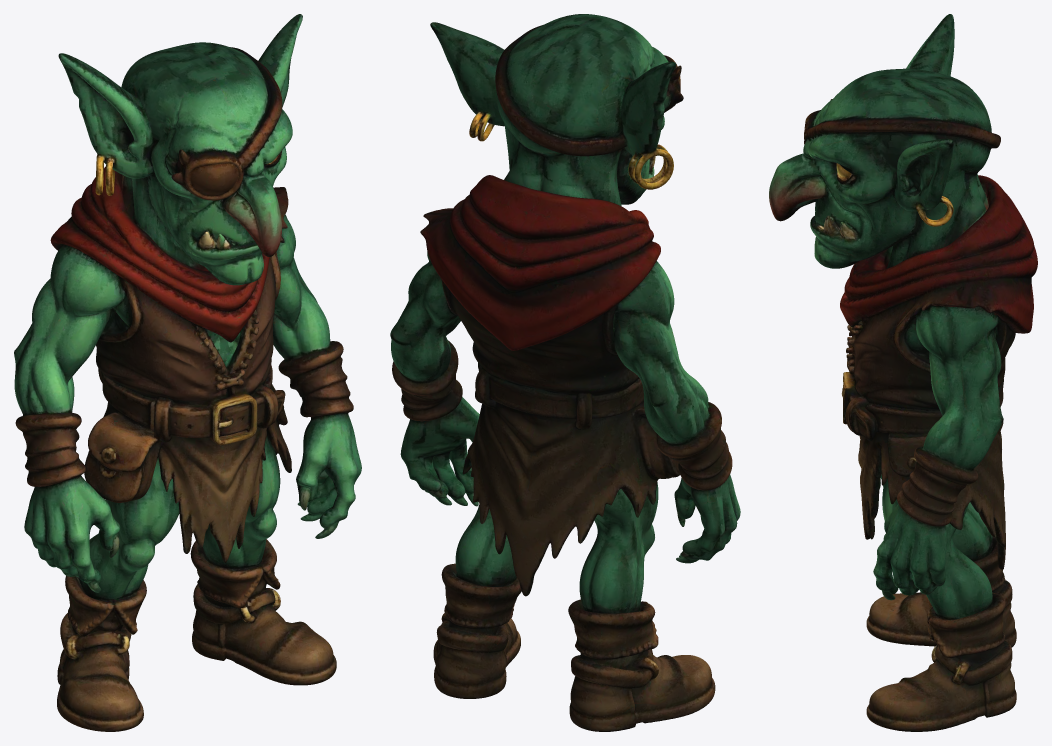
The model's file is Goblin_Buccaneer_dica do jogo.glb.
3 renders of one model, left to right at view 1: azimuth 30°, elevation 25°; view 2: azimuth 150°, elevation 25°; view 3: azimuth 270°, elevation 25°, orthographic. The views are drawn at different scales.
Bounding box in the file's own units: 0.9931 × 1.9 × 0.7636.
Materials: 1 (1 with a texture image).
